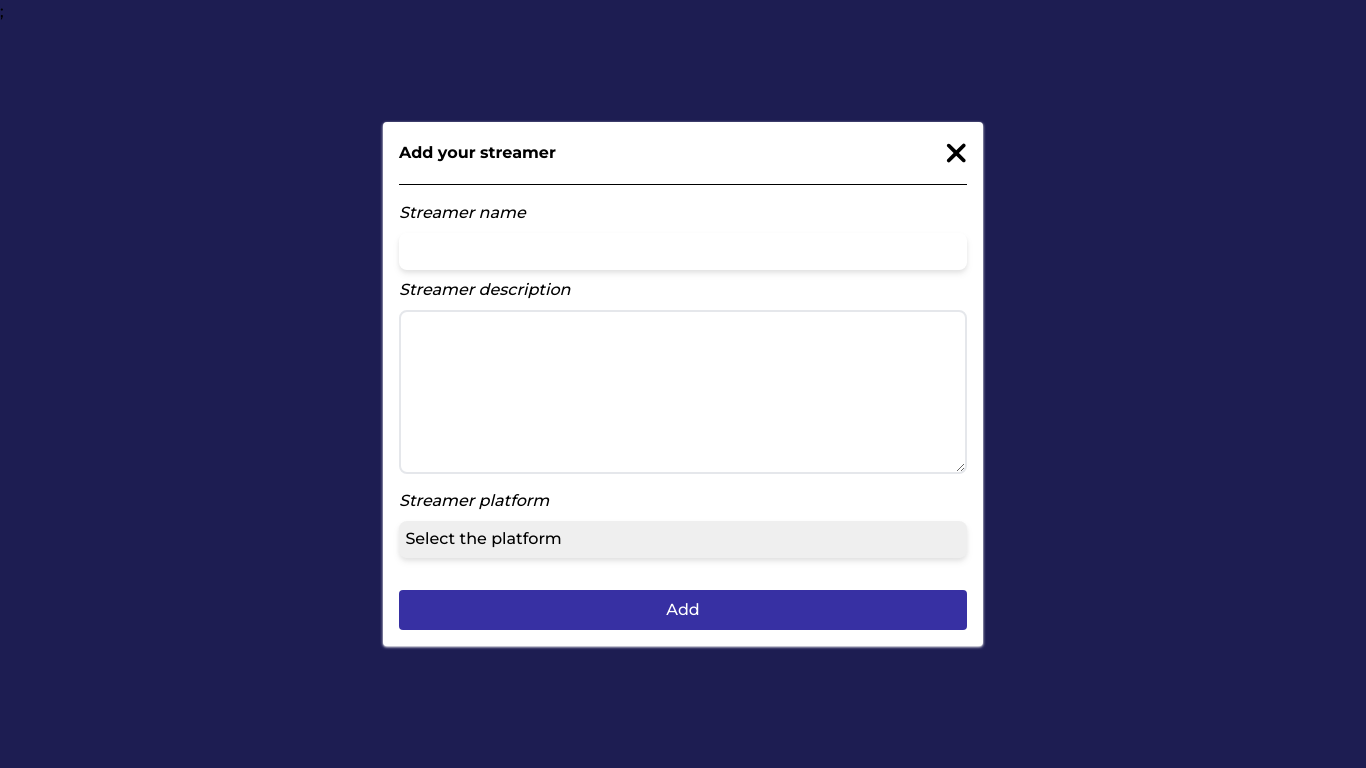
Test: new-streamer › streaming-description › check if input field was focused and than if the focus was removed. Expected error
Type "Pa" into the text box named "streamer-description". click: (683, 392)
box: [399,310,967,474]
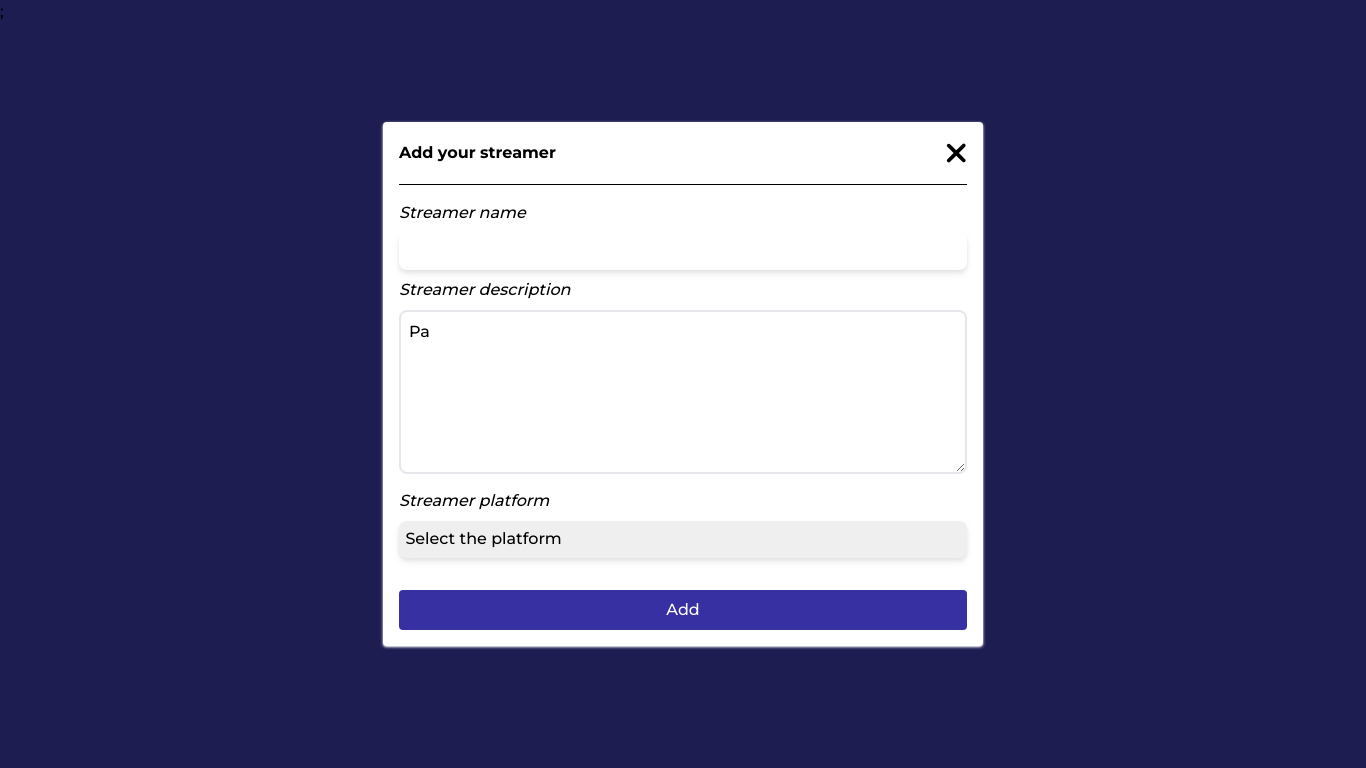
Leave the text box named "streamer-description", box [399,310,967,474]
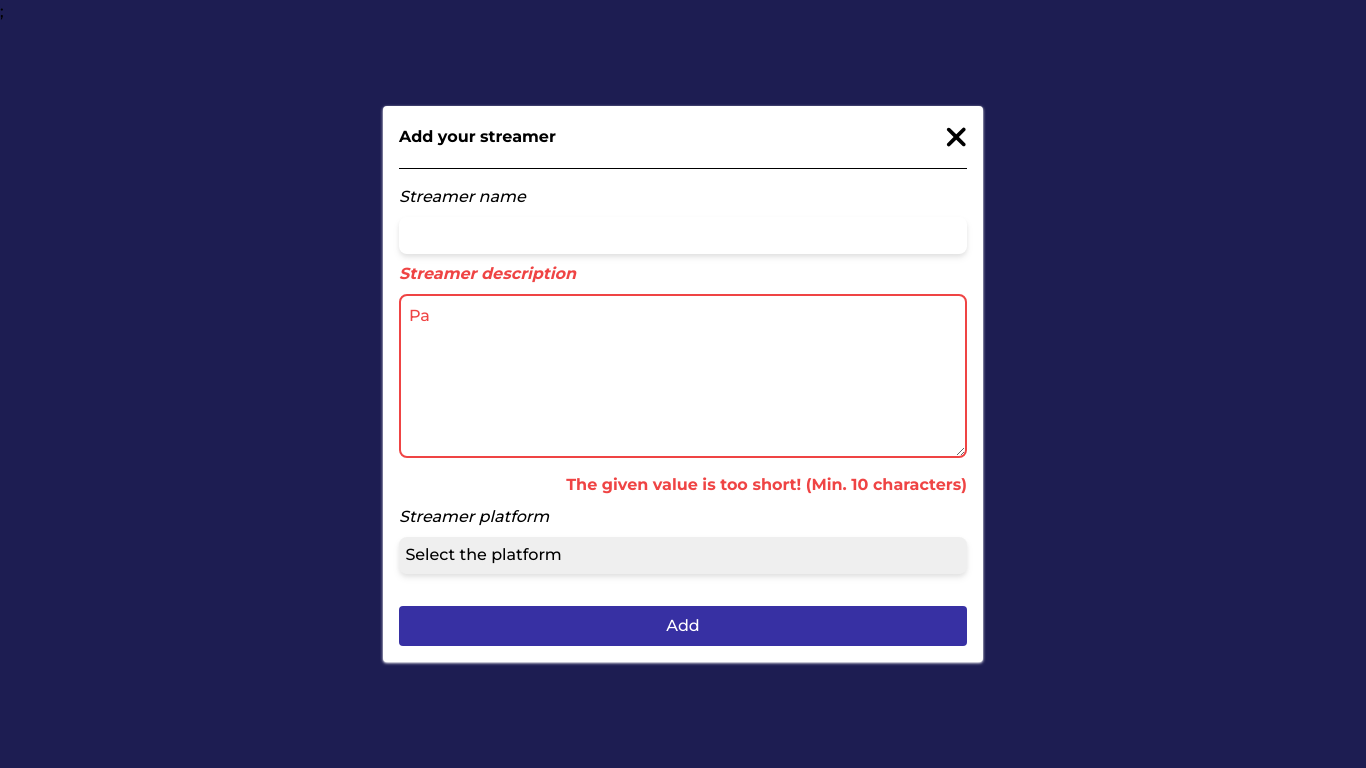
Result: the text "The given value is too short! (Min. 10 characters)" is shown at [566,473,967,497]
